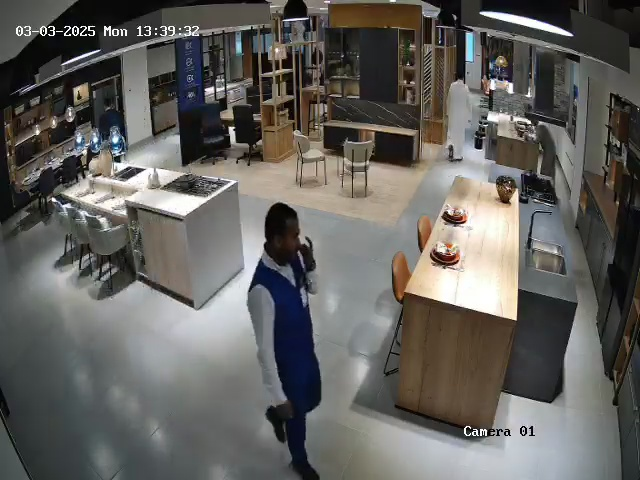employee: (247, 202, 323, 480), (92, 93, 124, 148)
male: (440, 58, 476, 167)
